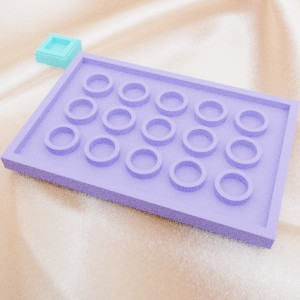lego: (0, 51, 299, 249), (34, 33, 82, 69)
